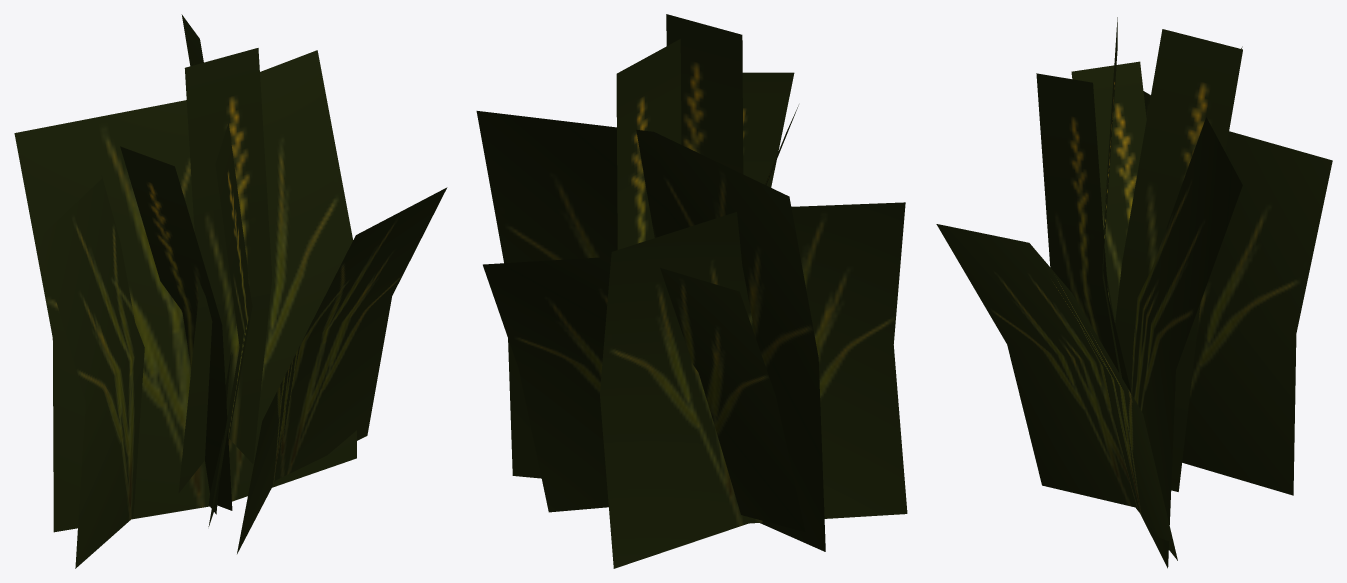
File: cao69_ani.fbx
The picture shows the model from 3 angles, left to right: view 1: azimuth 30°, elevation 25°; view 2: azimuth 150°, elevation 25°; view 3: azimuth 270°, elevation 25°; orthographic projection. The views are drawn at different scales.
Parts seen in each view (by area): view 1: cao69_ani; view 2: cao69_ani; view 3: cao69_ani.
Part boxes in pixels (x1,y1,x2,y2): cao69_ani: (14, 14, 447, 568); cao69_ani: (476, 14, 907, 568); cao69_ani: (936, 17, 1332, 568).
Size of the model in its own units: 390 by 443 by 340.
Materials: 1 (1 with a texture image).
